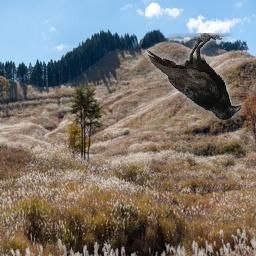Crow: (145, 34, 241, 121)
